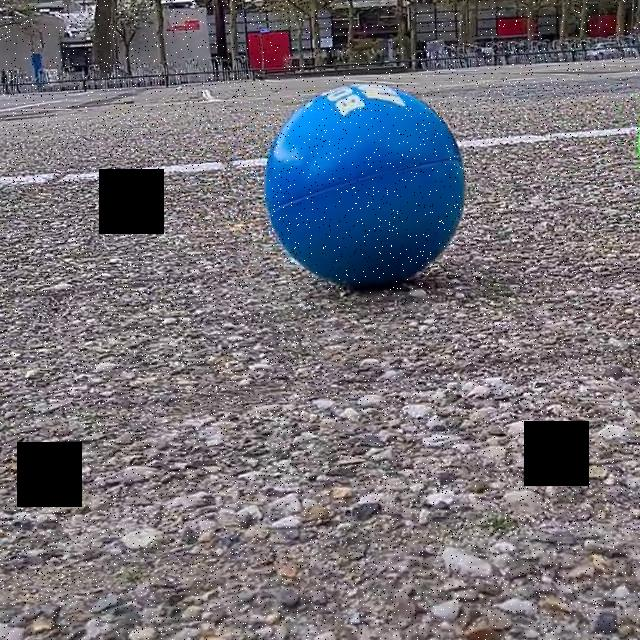ball: (262, 79, 469, 296)
